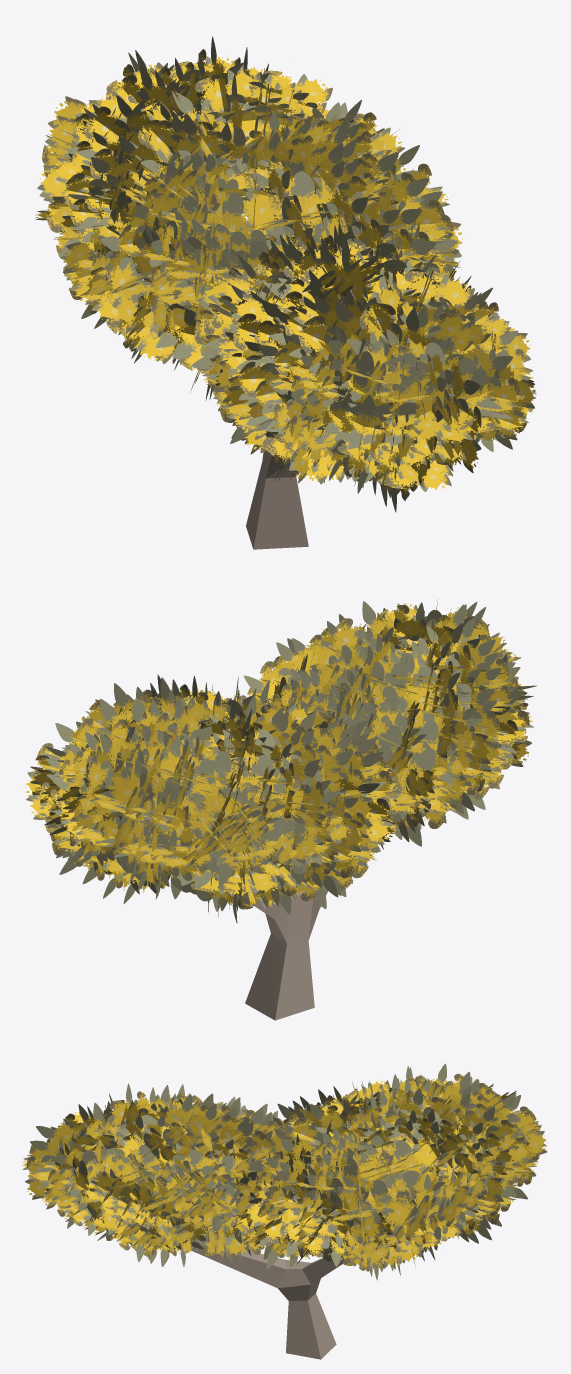
Rendered from acasia.glb.
3 renders of one model, top to bottom at view 1: azimuth 30°, elevation 25°; view 2: azimuth 150°, elevation 25°; view 3: azimuth 270°, elevation 25°, orthographic. The views are drawn at different scales.
Parts seen in each view (by area): view 1: Acasia, Acasia.log; view 2: Acasia, Acasia.log; view 3: Acasia, Acasia.log.
Part boxes in pixels (box(x1,y1,x2,y2)): Acasia: box(35, 36, 539, 512); Acasia.log: box(246, 450, 308, 549); Acasia: box(21, 599, 536, 923); Acasia.log: box(245, 887, 327, 1020); Acasia: box(19, 1063, 547, 1280); Acasia.log: box(169, 1220, 344, 1359).
Bounding box in the file's own units: 11.53 × 11.86 × 20.36.
Materials: 2 (1 with a texture image).
